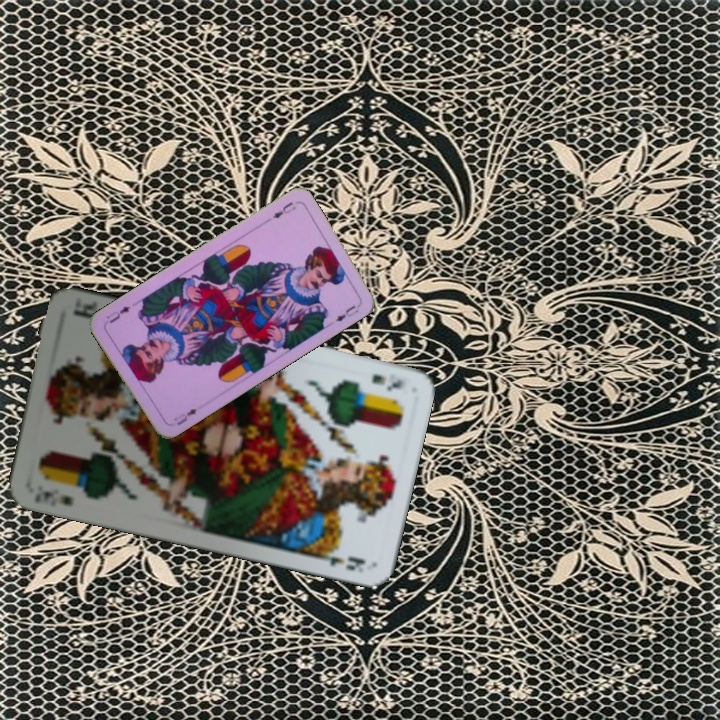EK: (367, 370, 406, 393), (38, 486, 76, 508)
EU: (268, 197, 299, 221), (170, 404, 200, 428)
